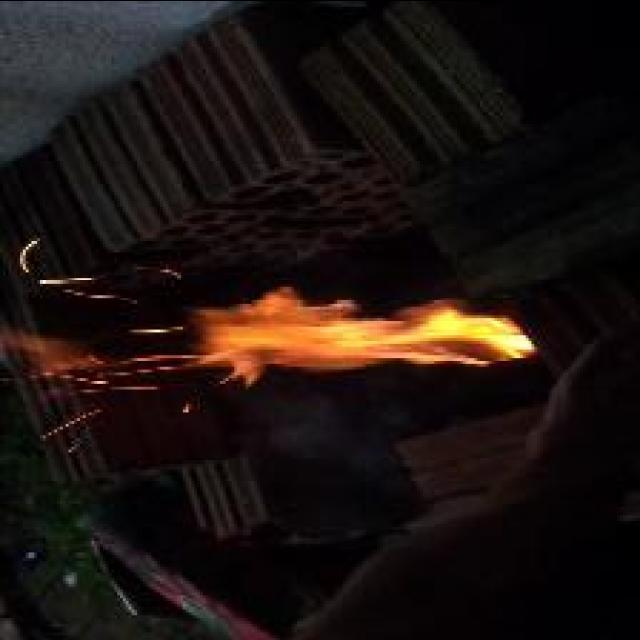Fire: (3, 287, 537, 384)
